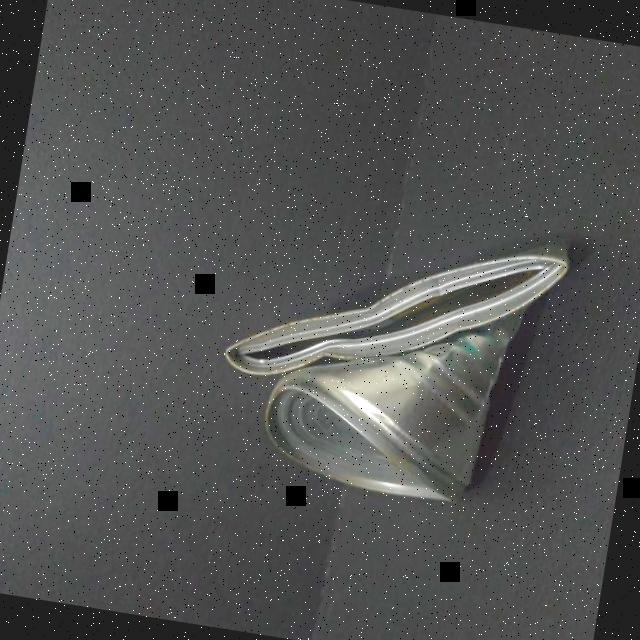can: (200, 189, 579, 522)
